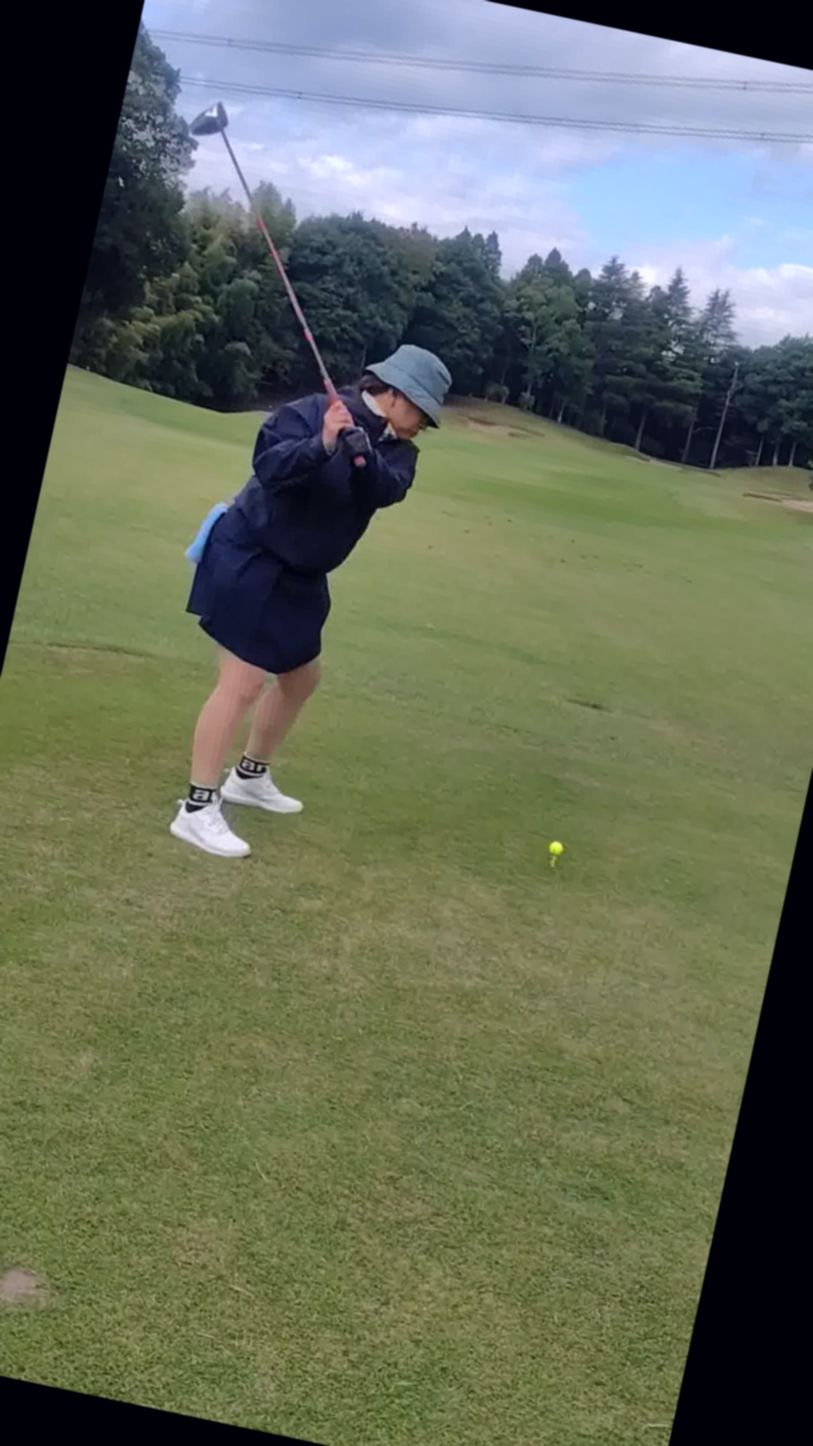clubhead: (136, 41, 430, 318)
